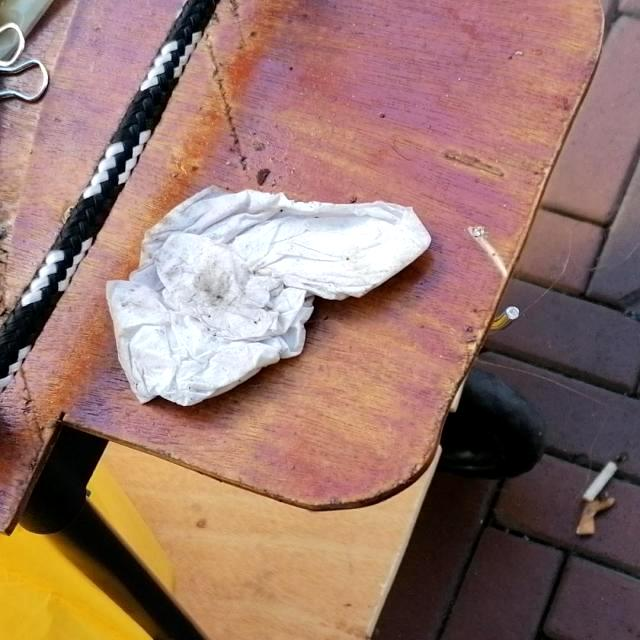Paper: (104, 182, 434, 408)
